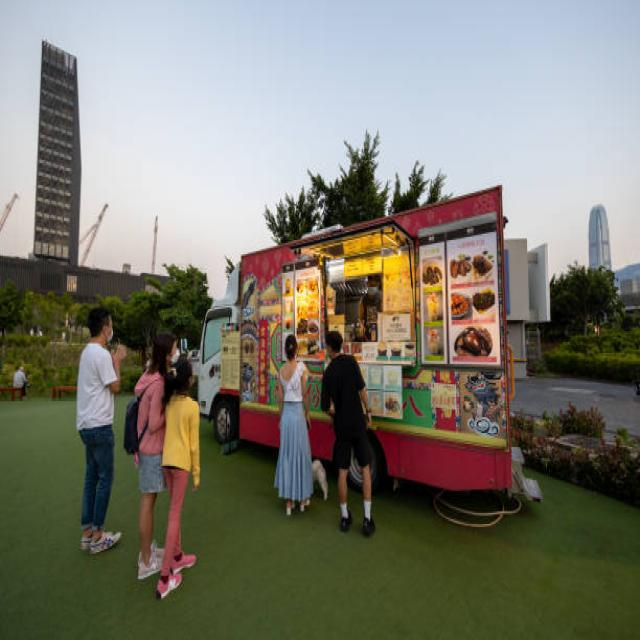Emperan: (162, 143, 528, 529)
